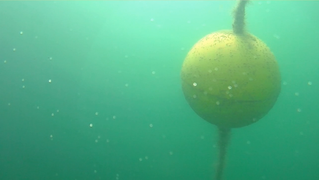buoy: (180, 29, 282, 128)
